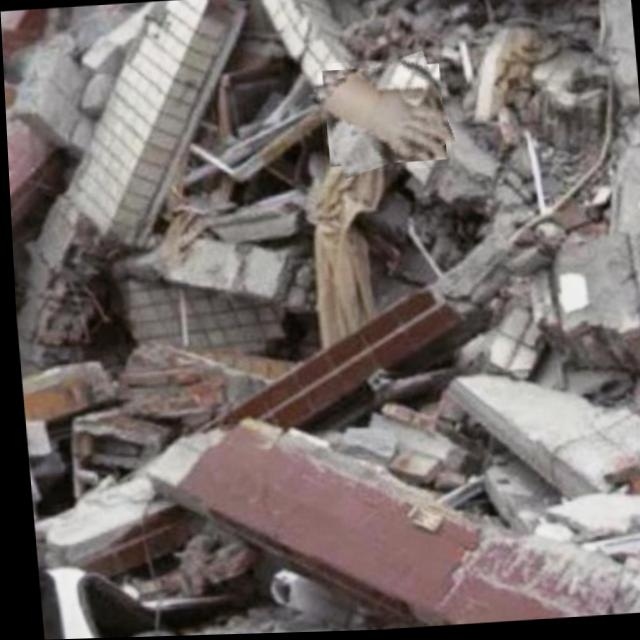Person in Rubble: (315, 59, 451, 176)
